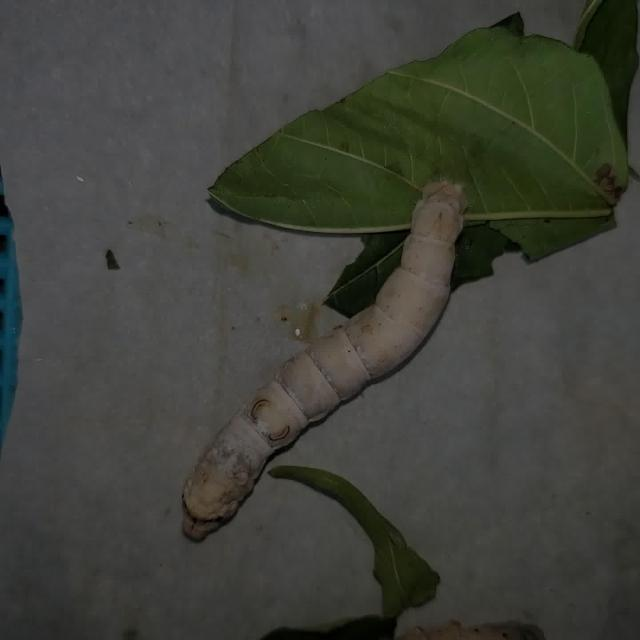Grasserie: (156, 134, 515, 582)
